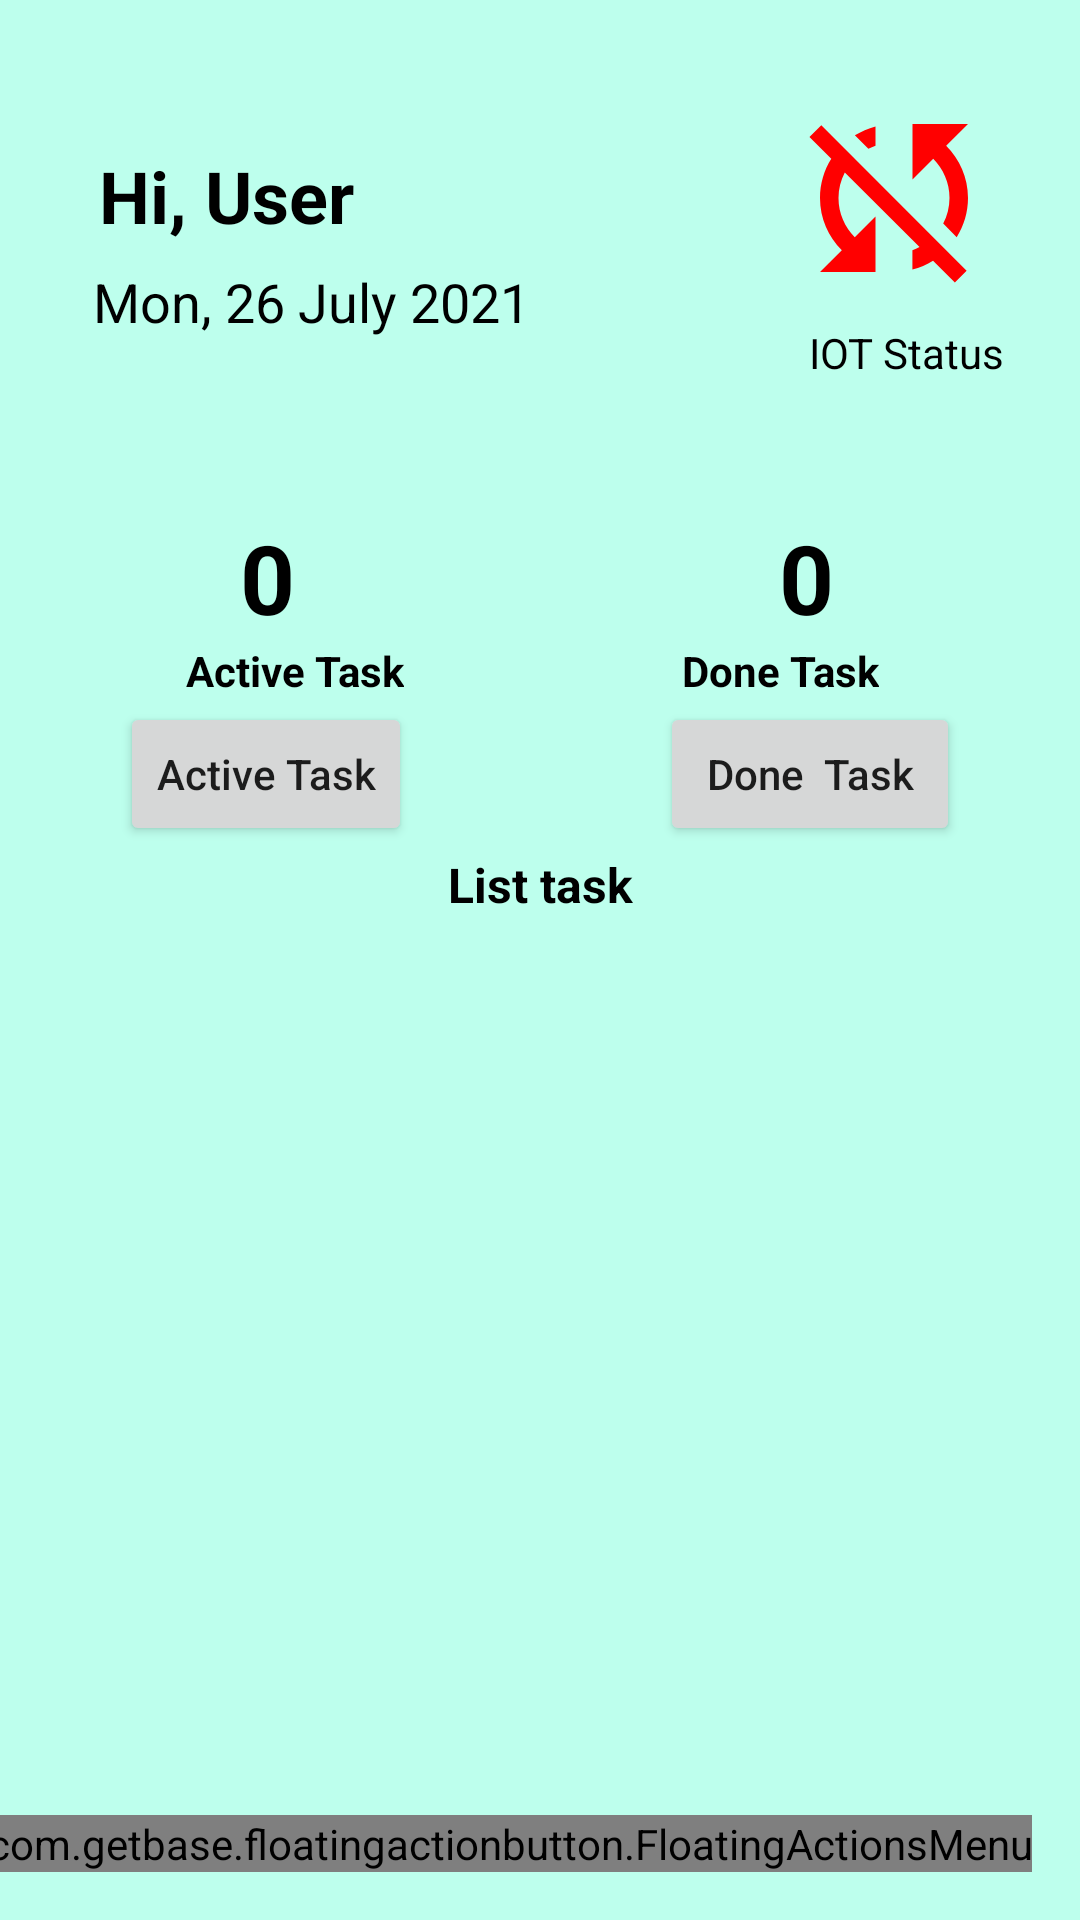

Icons on this 1080w x 1920h Android screen, each with its box as (x1, y1, x2, y2):
sync: (809, 124, 968, 283)
